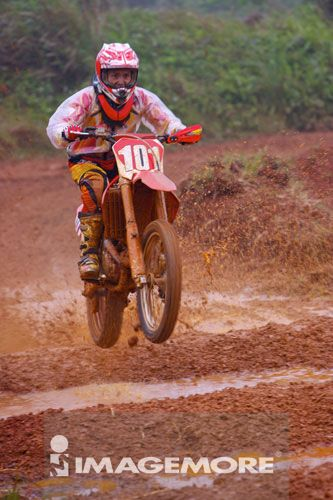helmet: (96, 44, 146, 97)
